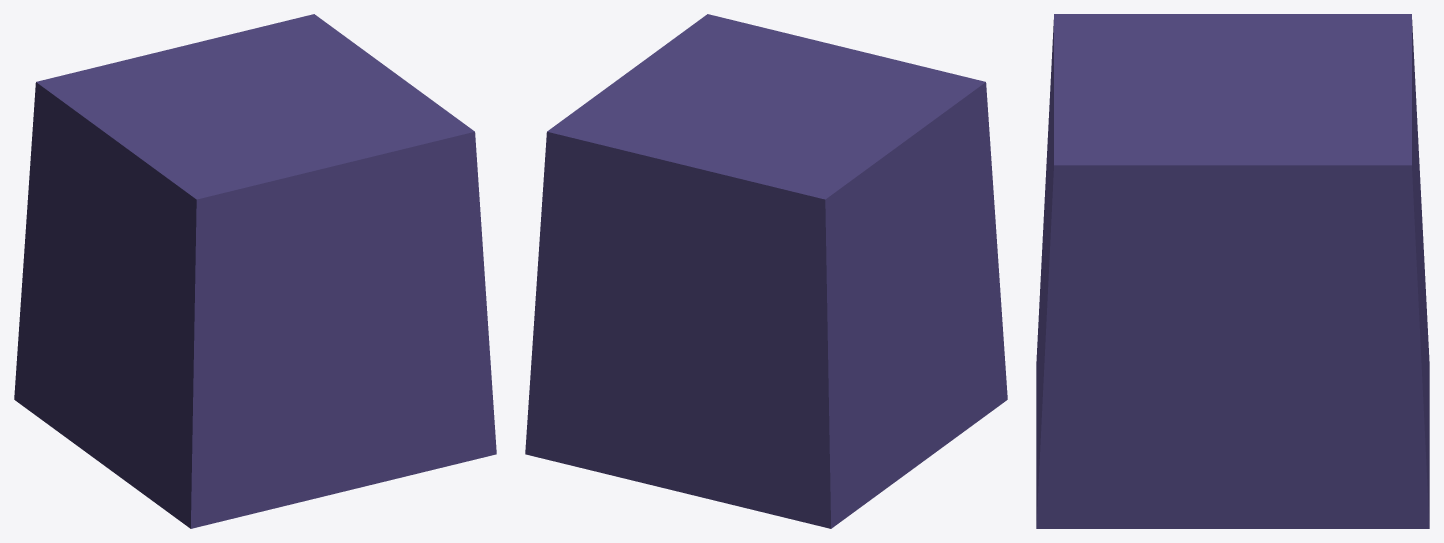
The picture shows the model from 3 angles, left to right: view 1: azimuth 30°, elevation 25°; view 2: azimuth 150°, elevation 25°; view 3: azimuth 270°, elevation 25°; orthographic projection. The views are drawn at different scales.
Parts seen in each view (by area): view 1: tmp_export_Cube; view 2: tmp_export_Cube; view 3: tmp_export_Cube.
Boxes of the visible parts, bbox=[...] form: tmp_export_Cube: bbox=[14, 14, 496, 528]; tmp_export_Cube: bbox=[525, 14, 1007, 528]; tmp_export_Cube: bbox=[1036, 14, 1429, 528].
Bounding box in the file's own units: 2 × 2 × 2.
